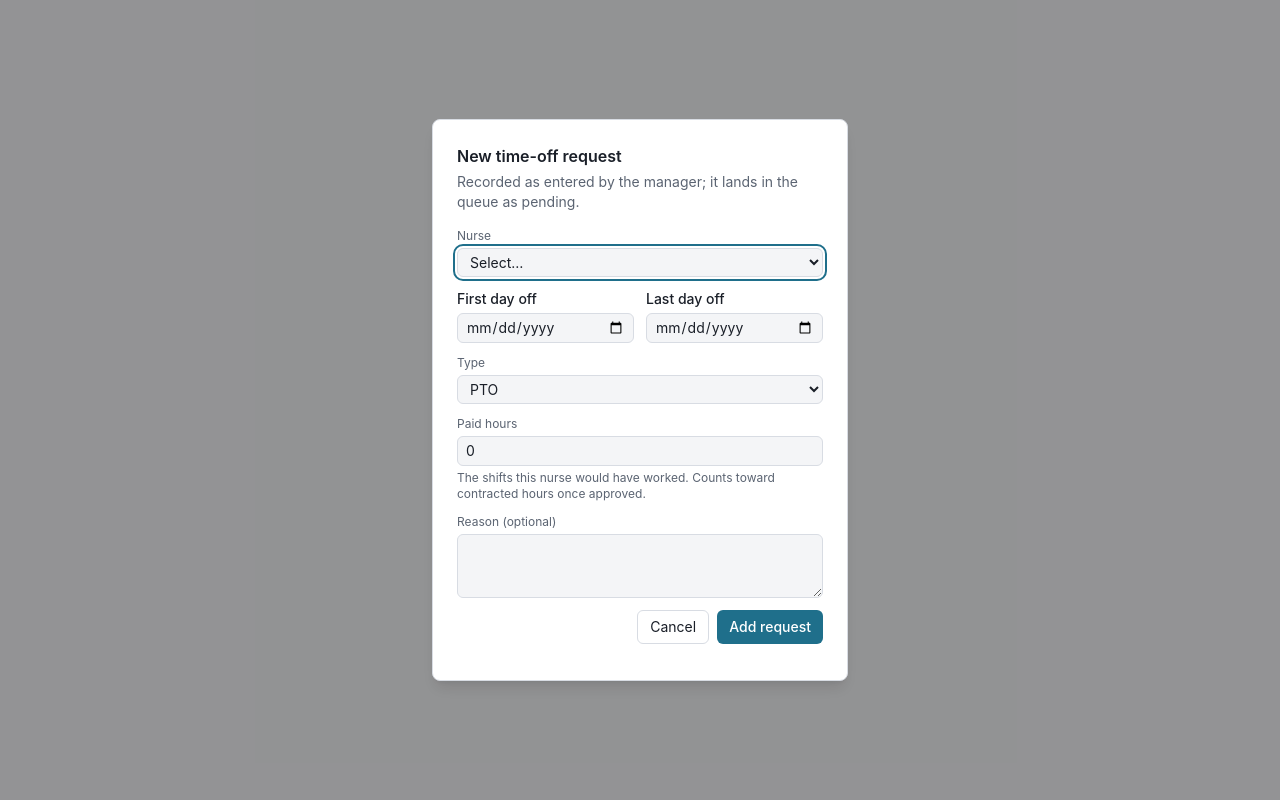
Test: writing a request against the balance on file › warns that the request pays 36 hours against a balance of 20, and still lets it be added
This screenshot has width=1280, height=800.
Select "Martinez, Ana (RN)" in the dropdown labelled "Nurse" at (640, 262), box [457,248,823,277]
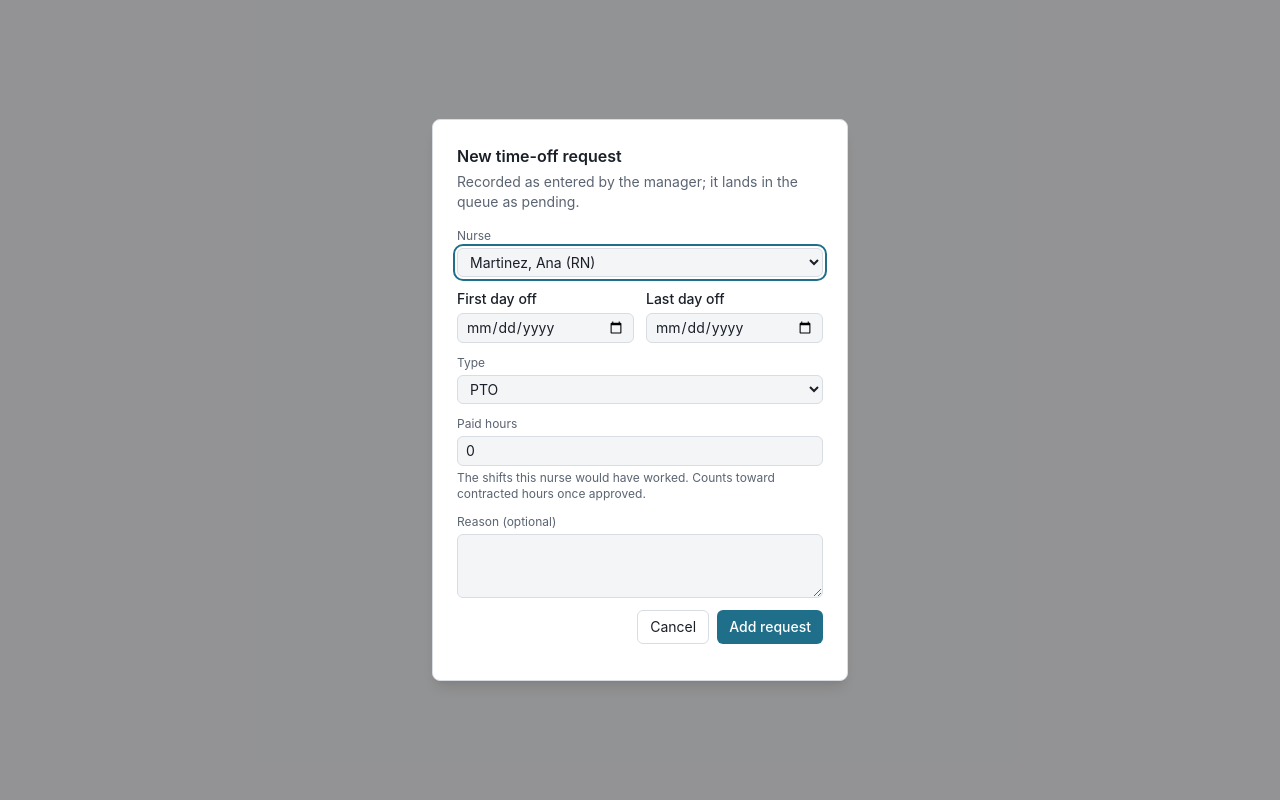
Type "2026-10-05" into the date field labelled "First day off".
click(546, 328); type("2026-10-05")  # box [457,313,634,343]
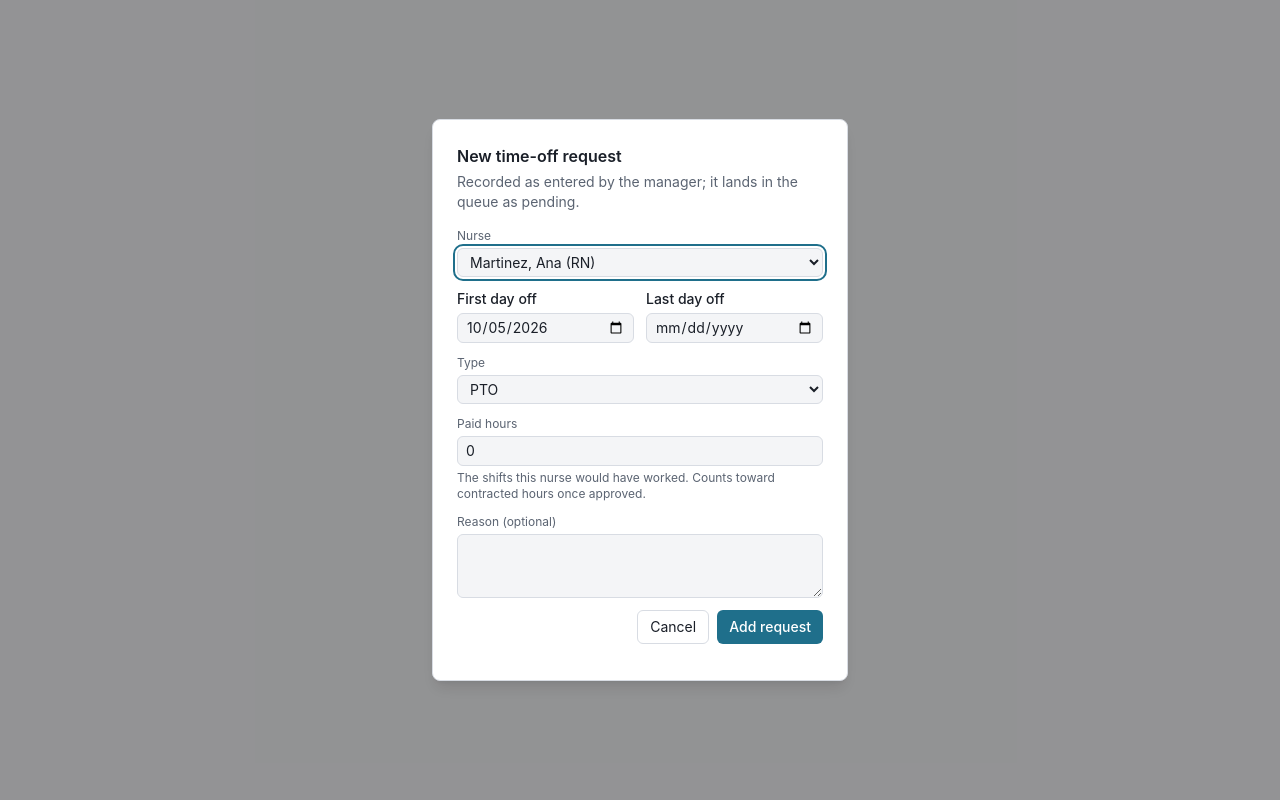
Type "2026-10-11" into the date field labelled "Last day off".
click(734, 328); type("2026-10-11")  # box [646,313,823,343]
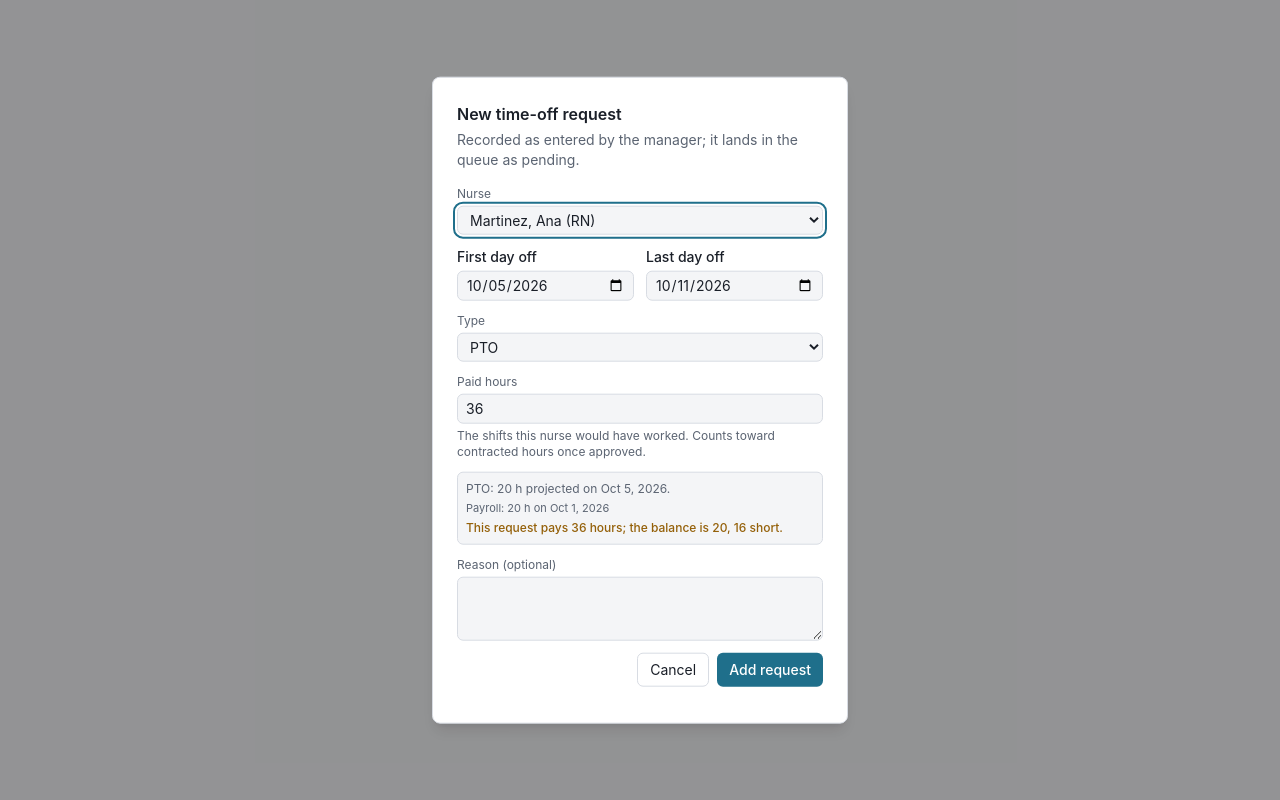
Expected: the button "Add request" is enabled, [717,652,823,686]
Now the text "This request pays 36 hours; the balance is 20, 16 short." is shown, box [466,519,814,535]
Now the text "PTO: 20 h projected on Oct 5, 2026." is shown, box [466,481,670,496]
